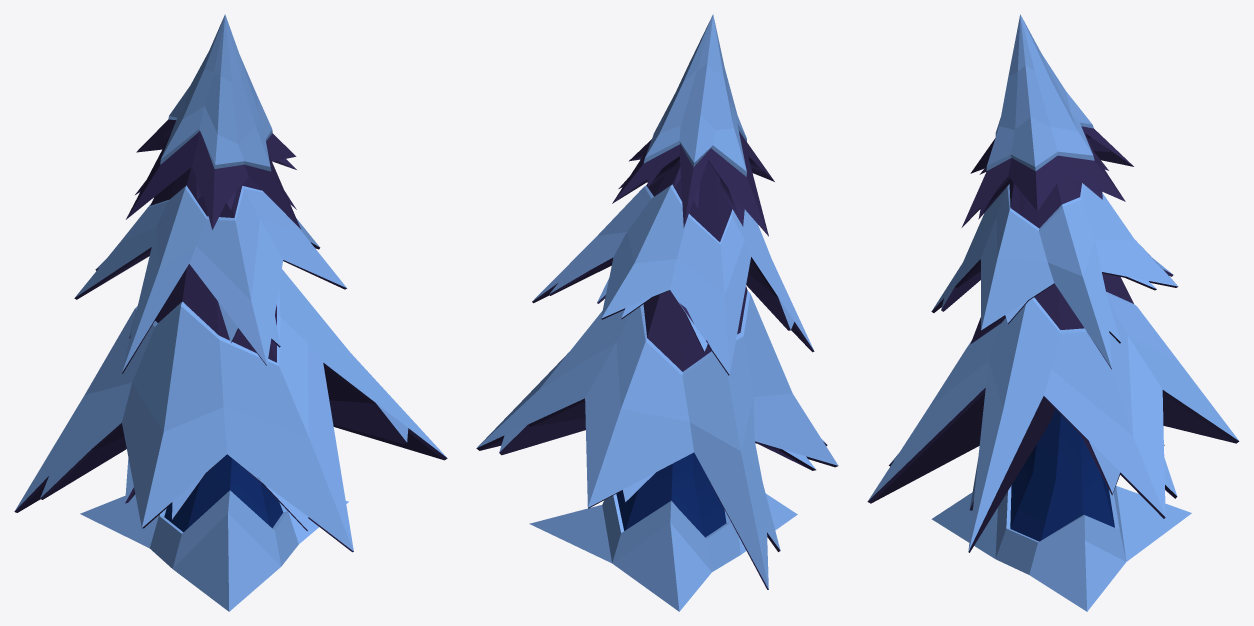
Rendered from Tree_4.fbx.
3 renders of one model, left to right at view 1: azimuth 30°, elevation 25°; view 2: azimuth 150°, elevation 25°; view 3: azimuth 270°, elevation 25°, orthographic. The views are drawn at different scales.
Parts seen in each view (by area): view 1: Tree_2; view 2: Tree_2; view 3: Tree_2.
Boxes of the visible parts, <box> form: Tree_2: <box>14,14,447,611</box>; Tree_2: <box>476,14,838,611</box>; Tree_2: <box>867,14,1239,611</box>.
Bounding box in the file's own units: 45.38 × 72.74 × 46.69.
